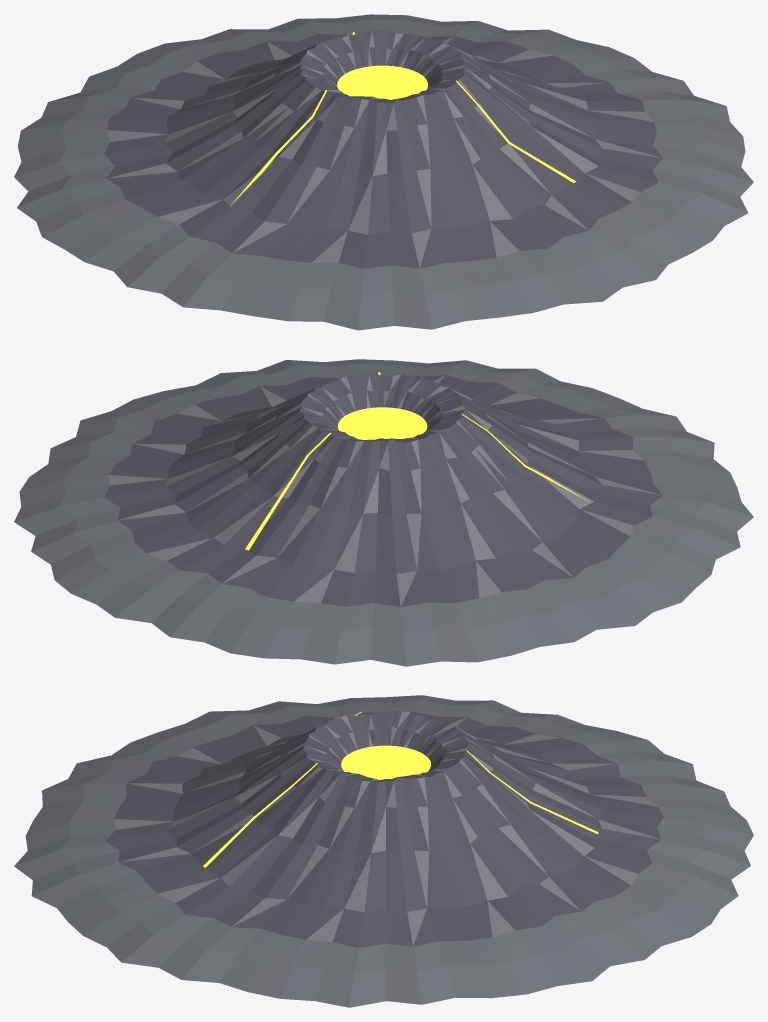
The model's file is VolcanoTerrain.fbx.
3 views of the same model, one above another, from view 1: azimuth 30°, elevation 25°; view 2: azimuth 150°, elevation 25°; view 3: azimuth 270°, elevation 25° (orthographic).
Visible parts, largest first — view 1: Terrain, CraterLava; view 2: Terrain, CraterLava; view 3: Terrain, CraterLava.
Boxes of the visible parts, left/top/right/bottom form: Terrain: left=14, top=14, right=753, bottom=330; CraterLava: left=337, top=65, right=427, bottom=99; Terrain: left=14, top=359, right=753, bottom=666; CraterLava: left=338, top=407, right=427, bottom=439; Terrain: left=14, top=695, right=753, bottom=1007; CraterLava: left=341, top=745, right=430, bottom=779.
Size of the model in its own units: 200 by 31.55 by 200.
